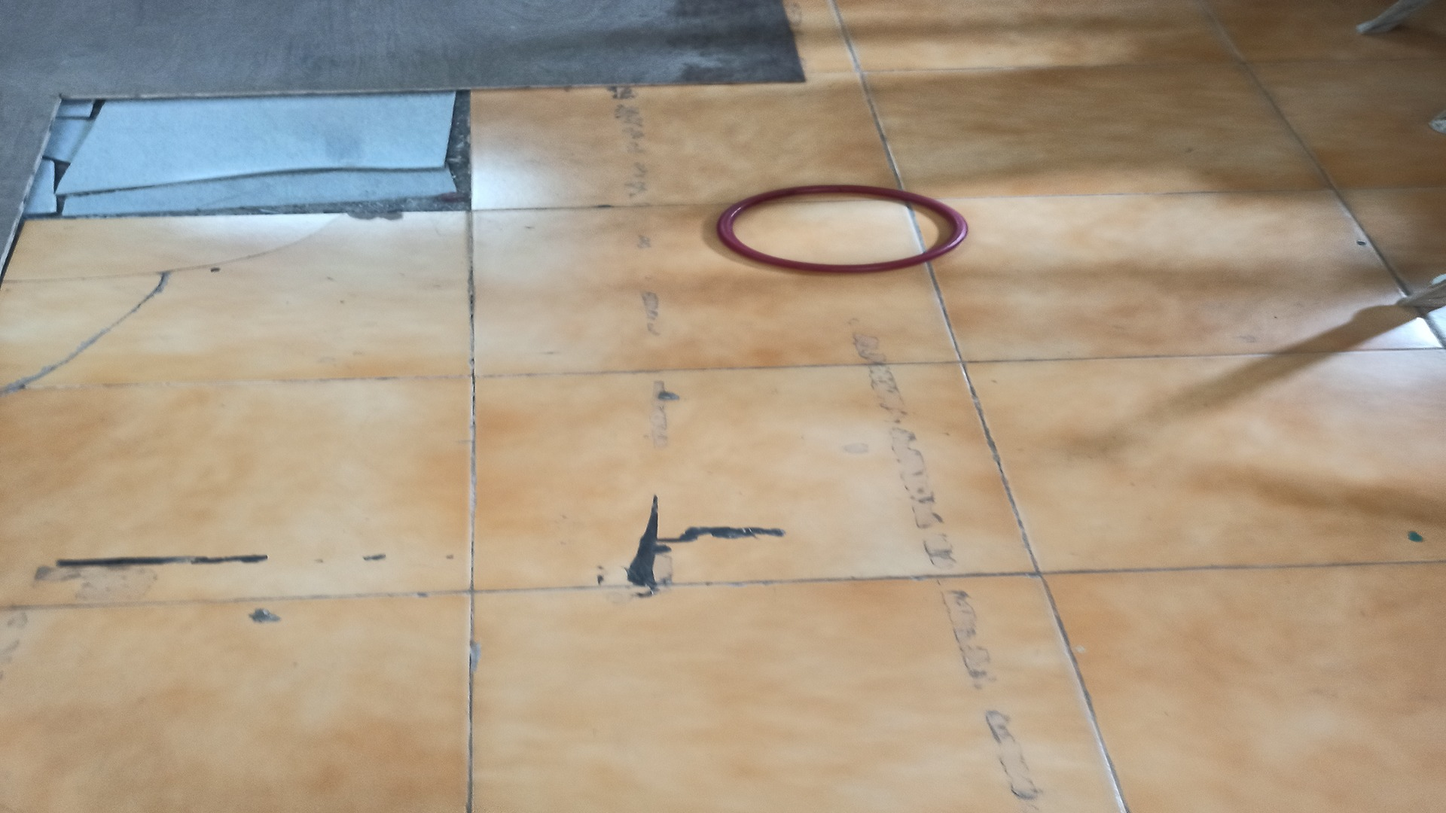Red ring: (718, 185, 968, 273)
